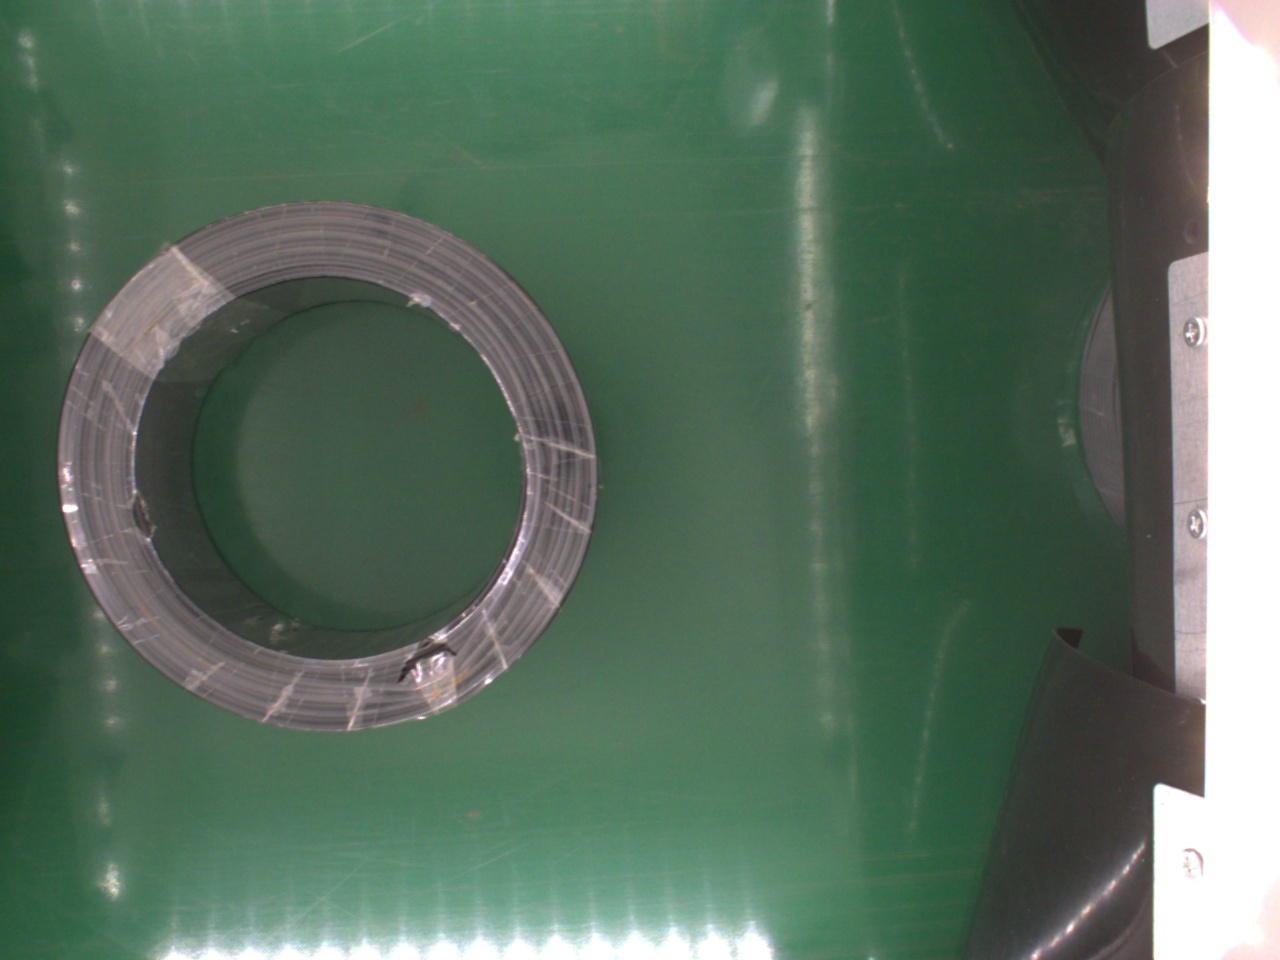black: (51, 198, 599, 740)
